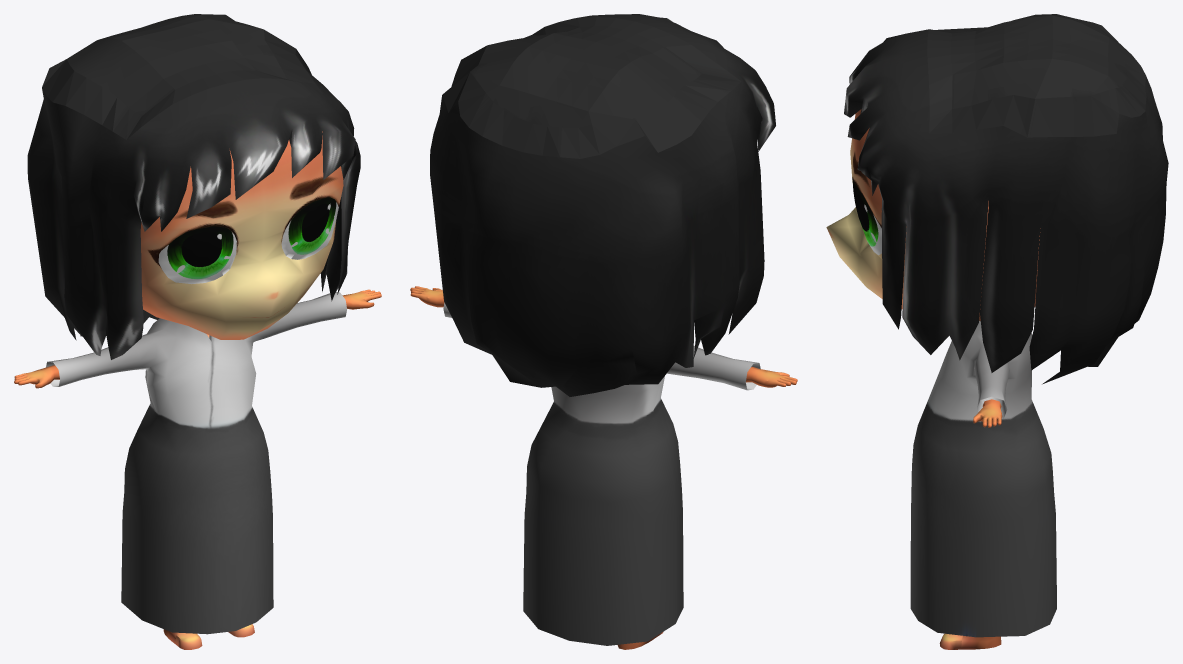
The model's file is 정림이.FBX.
The picture shows the model from 3 angles, left to right: view 1: azimuth 30°, elevation 25°; view 2: azimuth 150°, elevation 25°; view 3: azimuth 270°, elevation 25°; orthographic projection. The views are drawn at different scales.
Visible parts, largest first — view 1: Object011; view 2: Object011; view 3: Object011.
Boxes of the visible parts, <box> form: Object011: <box>14,14,381,649</box>; Object011: <box>410,14,797,649</box>; Object011: <box>826,14,1168,649</box>.
Bounding box in the file's own units: 110 × 85.93 × 164.
